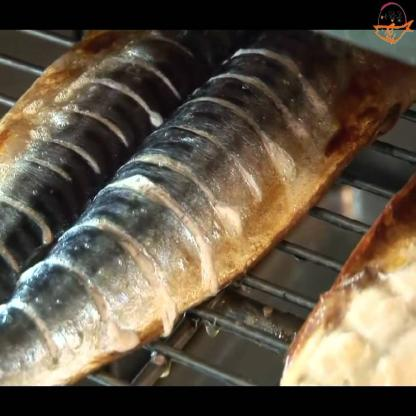Peixe: (0, 12, 379, 404)
